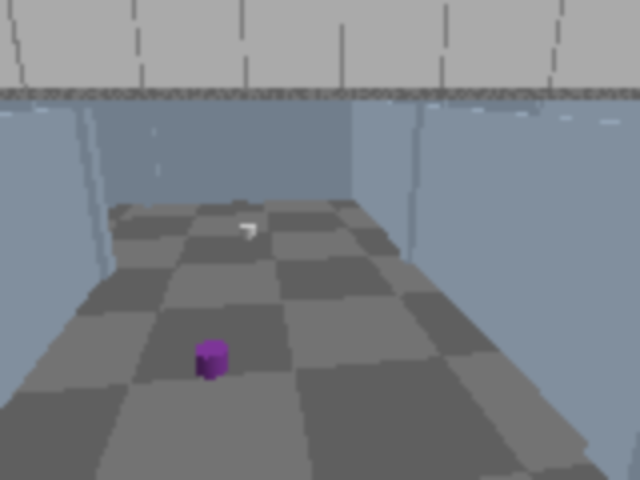puck: (195, 342, 227, 377)
